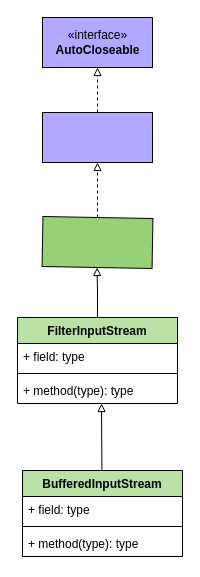
Some shapes in this 200 by 577 pixel diagram are drawn without their labels. The shapes that lost their labels are listed below. From the top down, each one's centre as x and y in pixels, then its label:
At [97,137]: "«interface» Closeable".
At [97,242]: "«interface» InputStream".
